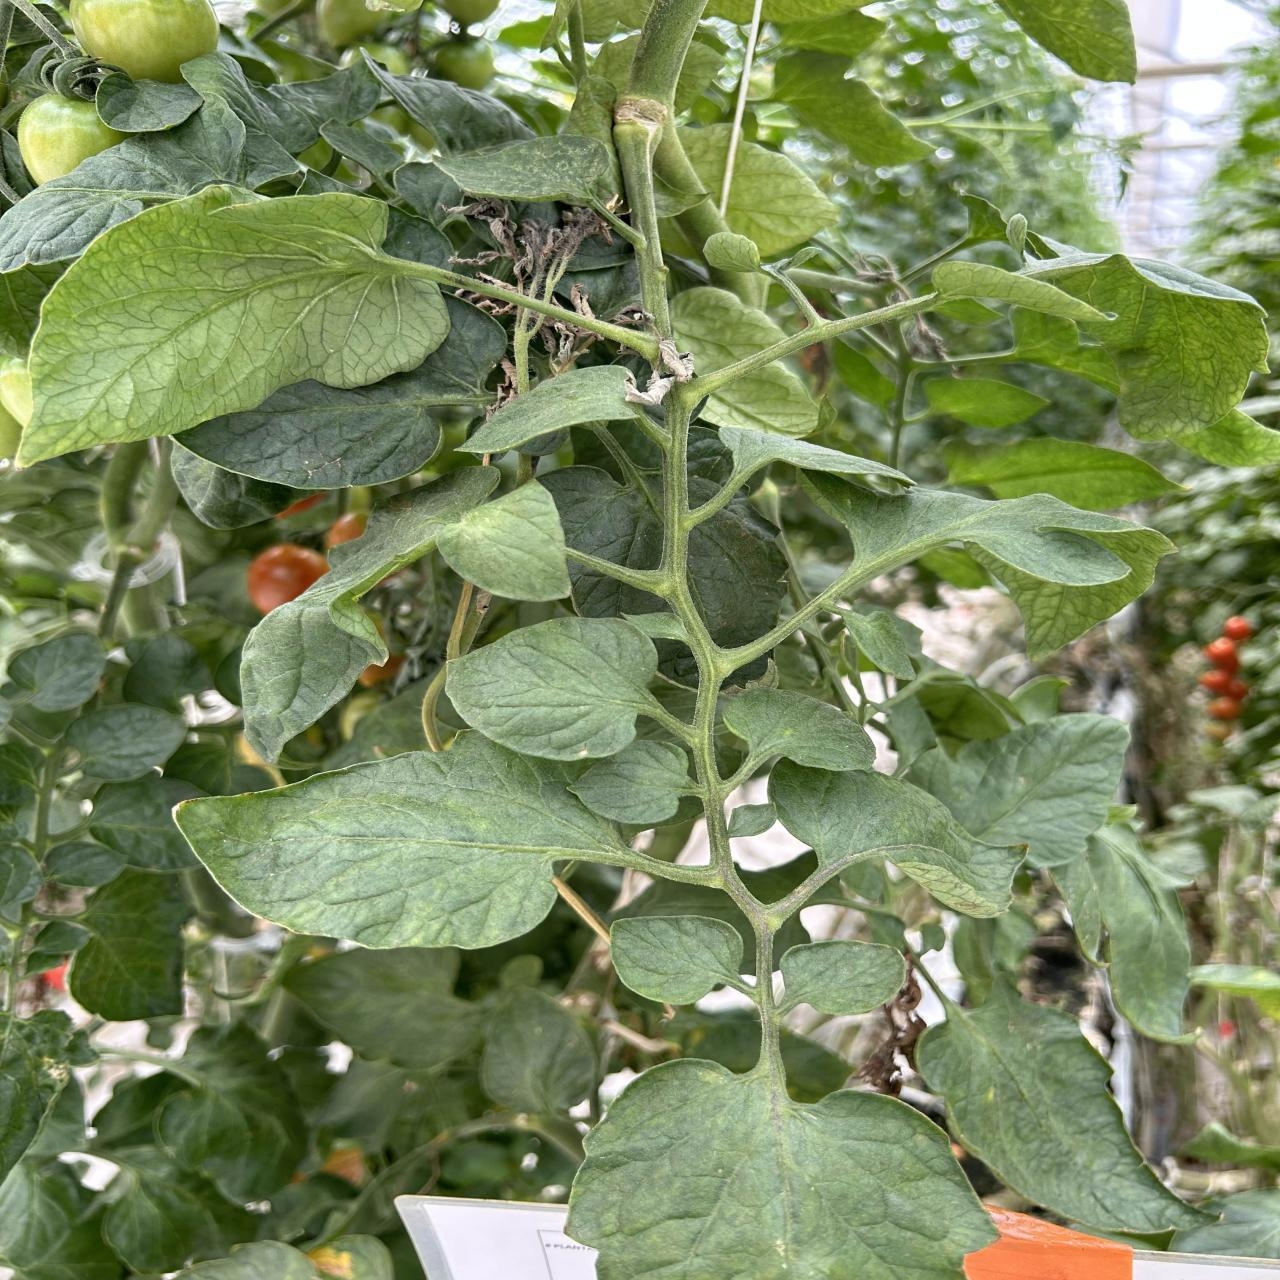Rugose leaf: (20, 186, 449, 461), (240, 465, 570, 763), (177, 731, 625, 948), (566, 1060, 998, 1280), (919, 980, 1213, 1232), (802, 470, 1175, 661), (177, 301, 504, 490), (769, 758, 1024, 917), (447, 618, 658, 761), (462, 366, 635, 452), (435, 135, 620, 204), (723, 689, 874, 771), (612, 915, 743, 1005), (568, 738, 693, 826), (932, 261, 1107, 321), (779, 940, 906, 1015)
Rugose tomato: (69, 0, 219, 82), (18, 94, 122, 184)
